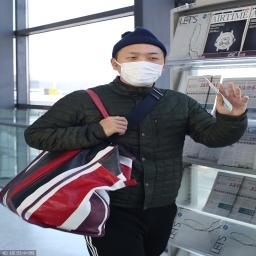correctlyWear: (110, 47, 165, 87)
